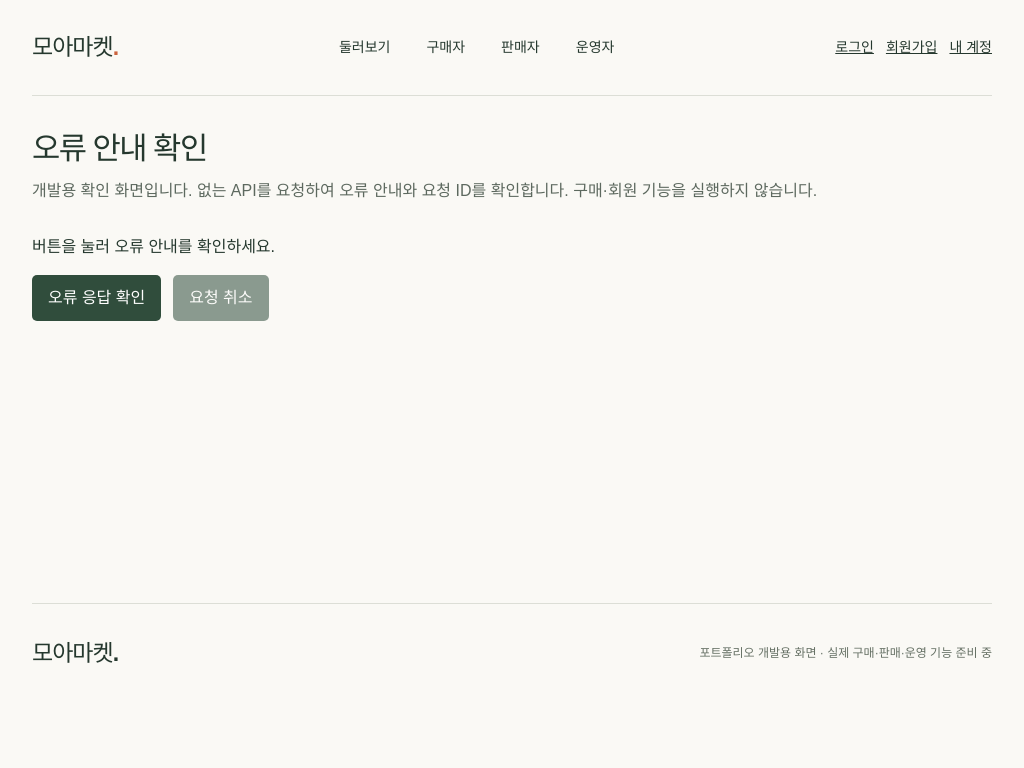
Test case: HTML 실패 후 재시도는 새 ID만 표시한다
Click the button "오류 응답 확인".
click(97, 298)  # box [32,275,161,321]
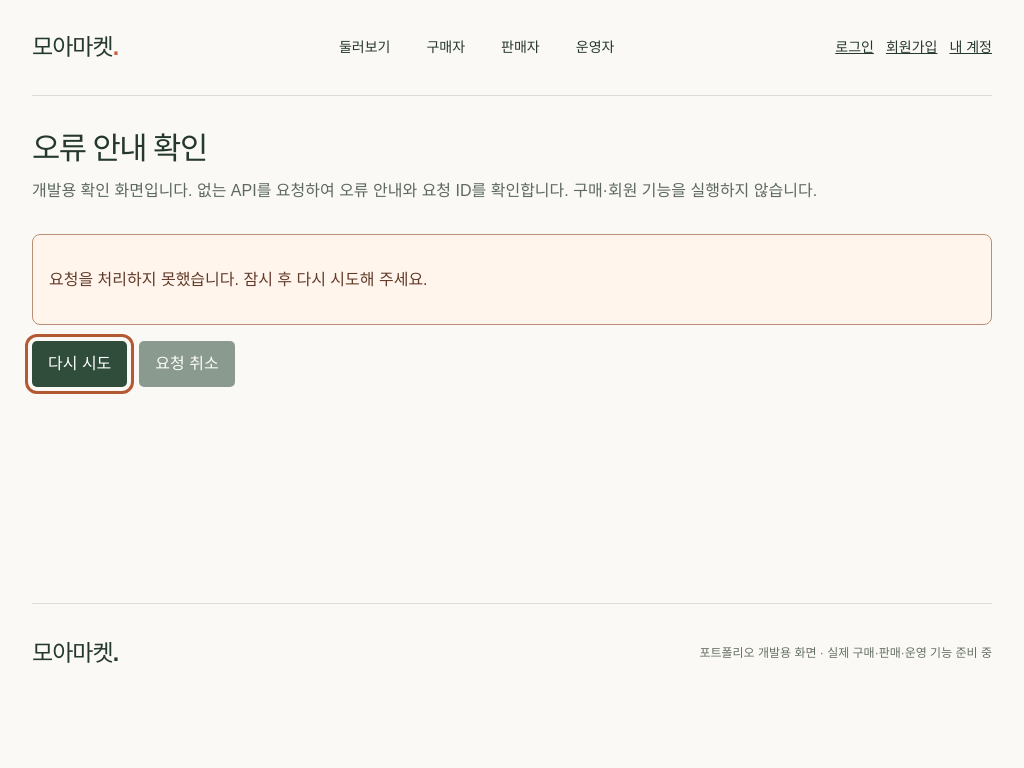
expect the message does not show "private": met, box [32,234,992,325]
Click the button "다시 시도".
click(80, 364)  # box [32,341,127,387]
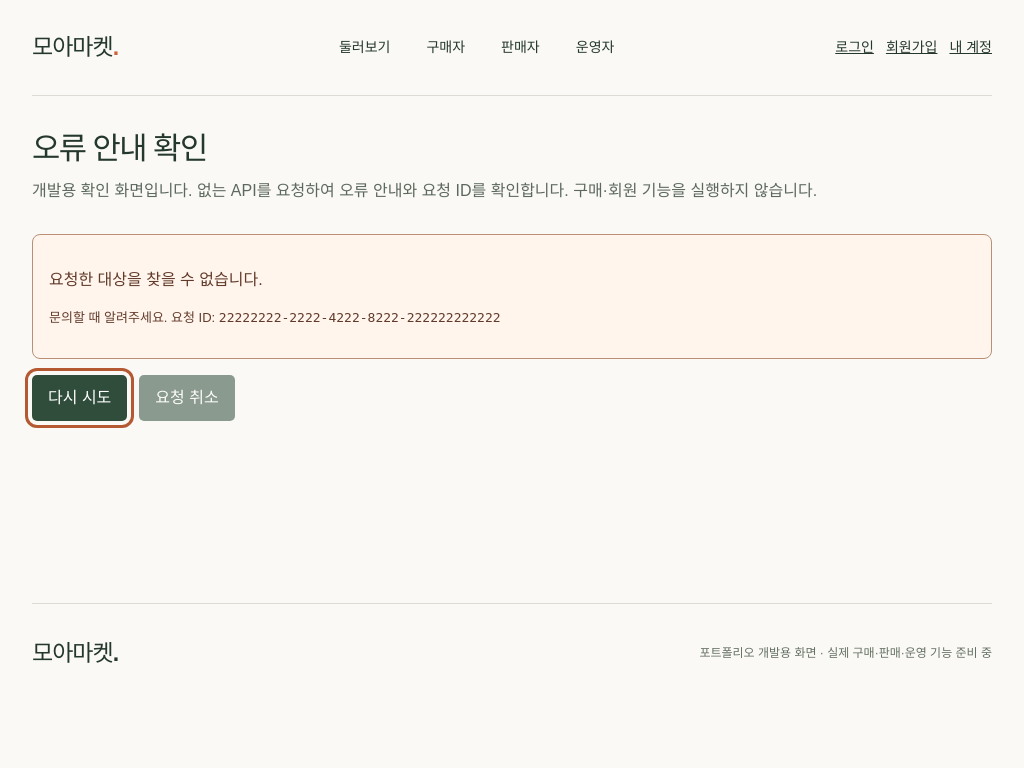
expect the message shows "22222222-2222-4222-8222-222222222222": met, box [219,310,501,325]
